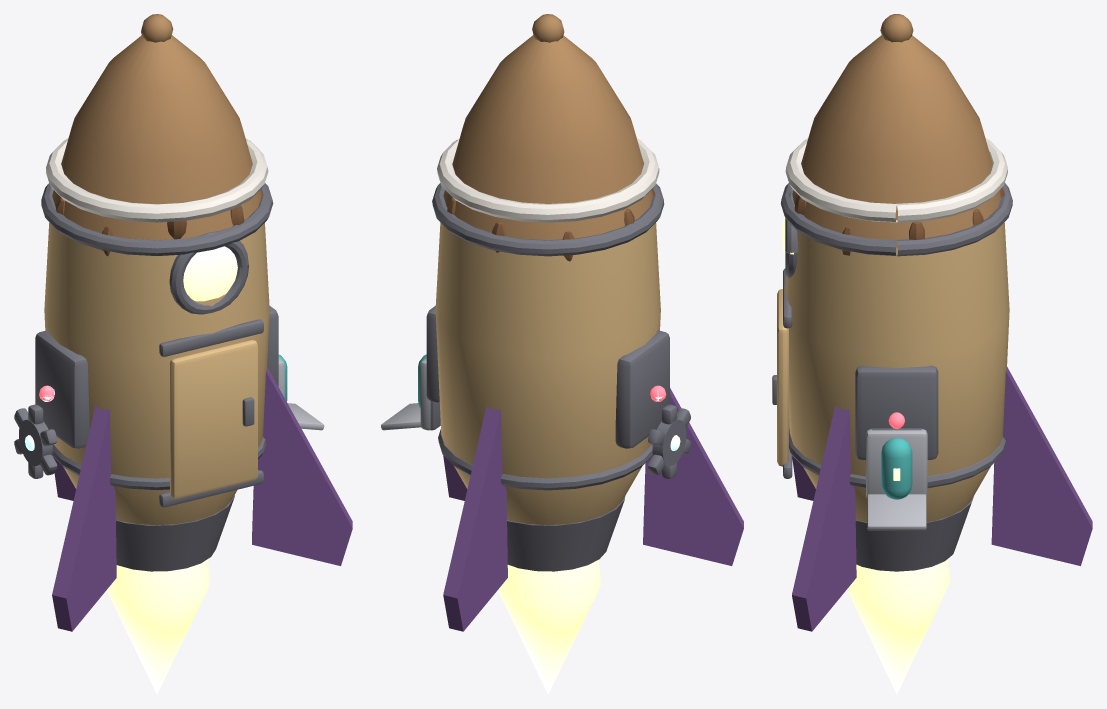
File: SPY_Rocket_HauntedBakery.fbx
3 views of the same model, side by side, from view 1: azimuth 30°, elevation 25°; view 2: azimuth 150°, elevation 25°; view 3: azimuth 270°, elevation 25° (orthographic).
Parts seen in each view (by area): view 1: Body, Hatch, Flame, SpinGear; view 2: Body, Flame, SpinGear, Slot_01_Empty, Slot_01_Filled; view 3: Body, Flame, Slot_01_Filled, Slot_01_Empty, Hatch.
Part boxes in pixels (x1,y1,x2,y2): Body: (35,14,352,631); Hatch: (170,340,257,498); Flame: (106,559,209,694); SpinGear: (14,404,57,478); Body: (426,14,743,631); Flame: (498,560,600,694); SpinGear: (648,404,690,478); Slot_01_Empty: (381,401,440,430); Slot_01_Filled: (418,354,430,430); Body: (780,14,1092,631); Flame: (847,559,950,694); Slot_01_Filled: (866,429,927,499); Slot_01_Empty: (867,412,926,530); Hatch: (772,289,788,466).
Bounding box in the file's own units: 2.96 × 6.32 × 2.7.
